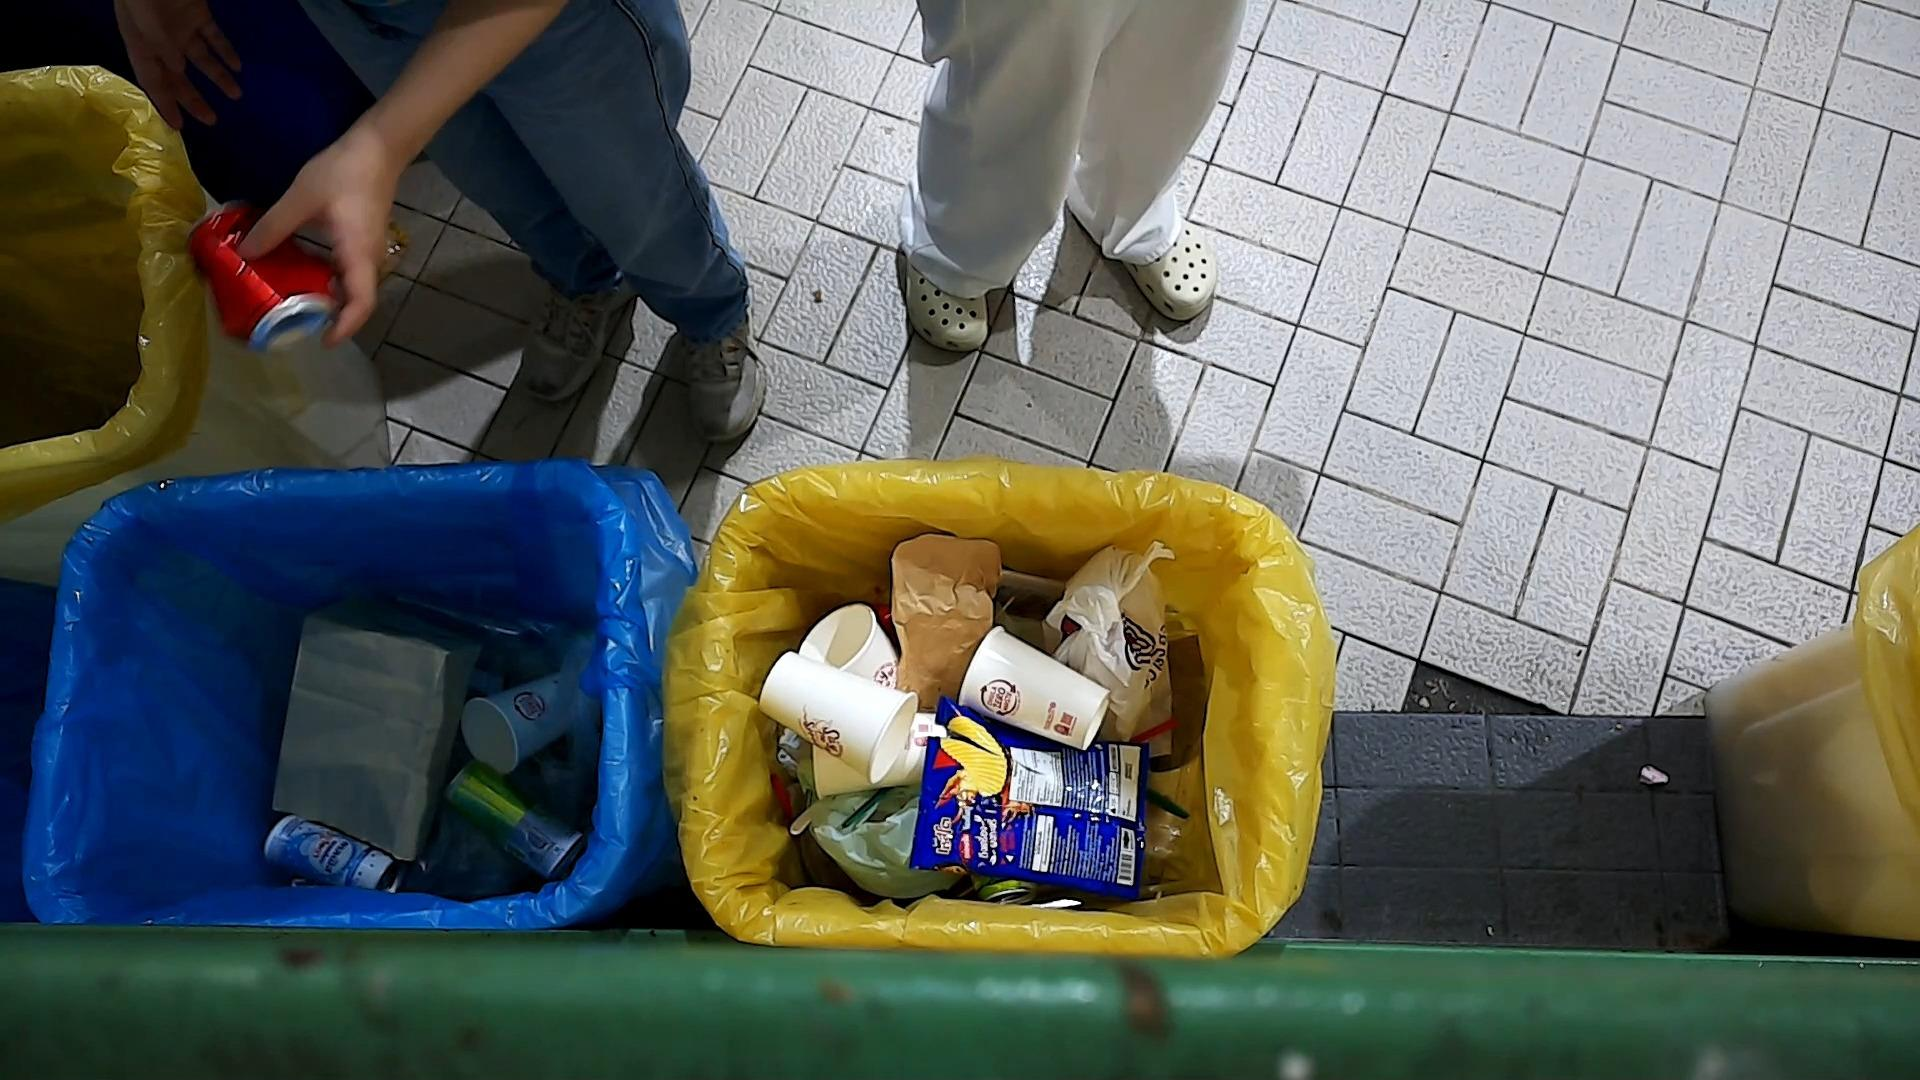can: (173, 187, 361, 365), (434, 748, 584, 886), (261, 811, 407, 897)
filled plastic bag: (1038, 538, 1179, 765), (787, 783, 973, 903)
paper bag: (266, 597, 489, 866), (882, 527, 1004, 707)
snack packaging: (905, 690, 1154, 906)
zero waste cup: (754, 646, 919, 790), (955, 618, 1114, 760), (458, 665, 579, 781), (796, 599, 901, 696)
